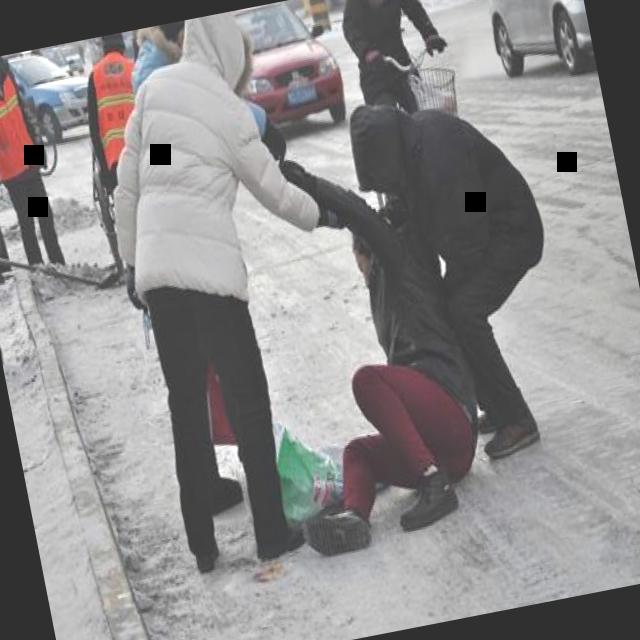Fall-Detected: (231, 132, 503, 571)
